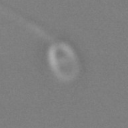normal: (3, 1, 57, 44)
